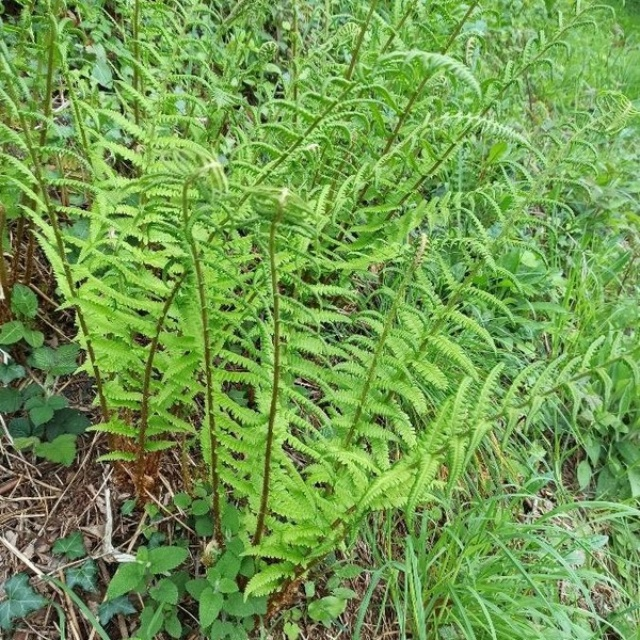obstacle: (57, 74, 522, 593)
